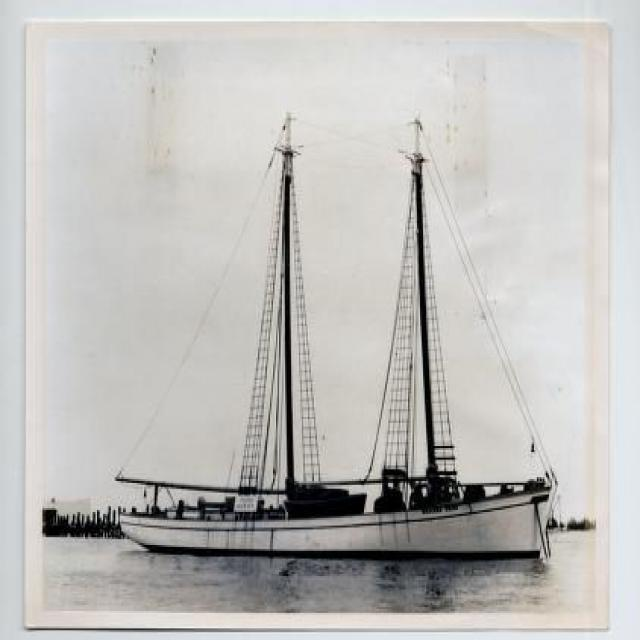Ship: (128, 137, 555, 573)
